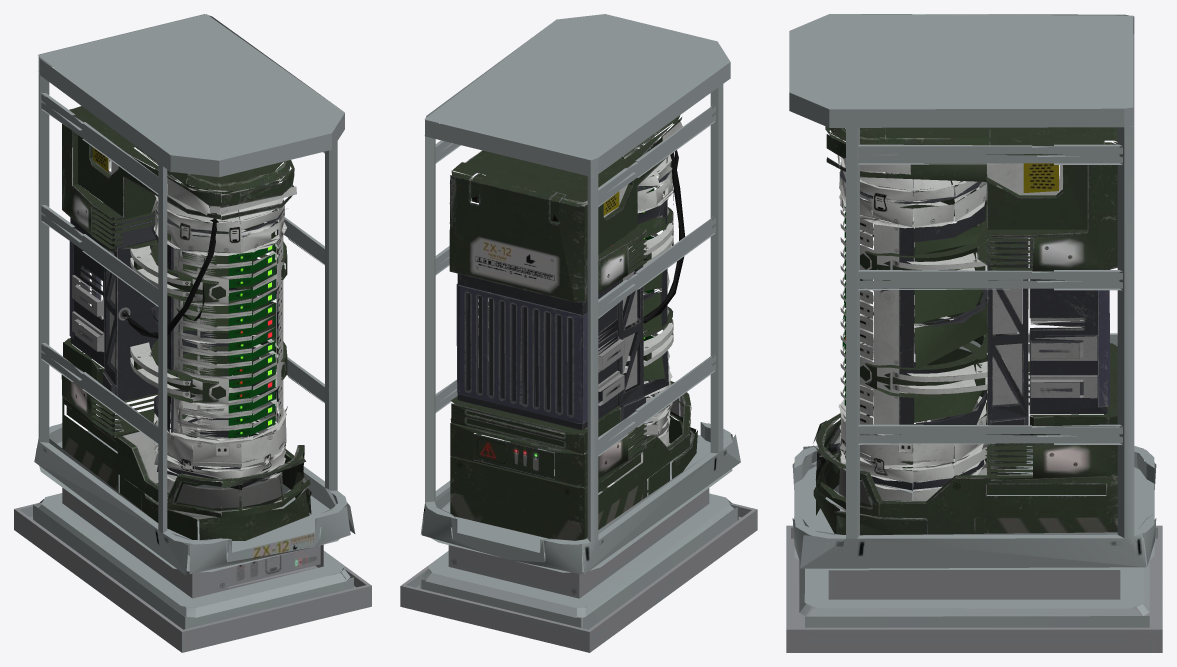
Rendered from hq_server_rack.gltf.
3 views of the same model, side by side, from view 1: azimuth 30°, elevation 25°; view 2: azimuth 150°, elevation 25°; view 3: azimuth 270°, elevation 25° (orthographic). The views are drawn at different scales.
Visible parts, largest first — view 1: defaultMaterial; view 2: defaultMaterial; view 3: defaultMaterial.
Part boxes in pixels (left/top/right/bottom): defaultMaterial: left=14, top=14, right=371, bottom=652; defaultMaterial: left=400, top=14, right=757, bottom=652; defaultMaterial: left=786, top=14, right=1162, bottom=652.
Bounding box in the file's own units: 0.8248 × 2 × 1.27.
Materials: 7 (7 with a texture image).
